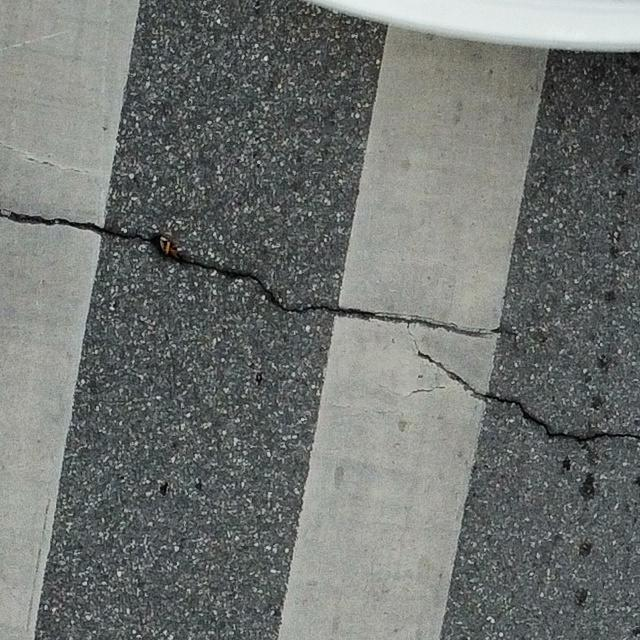TransverseCrack: (1, 208, 521, 335), (416, 346, 640, 446)
